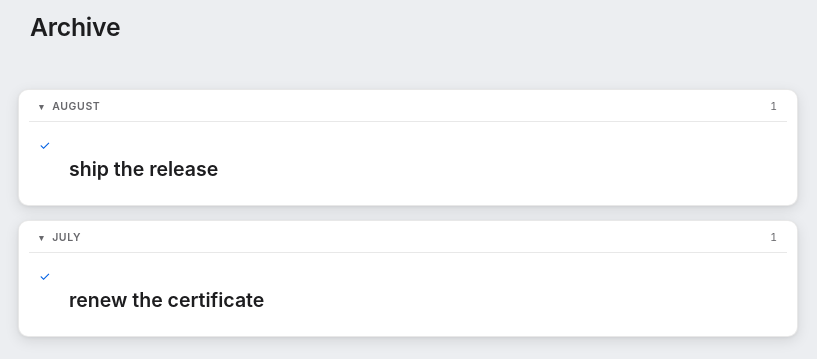
the bands of the archive fold › puts away a whole band and says how much it holds
The width and height of the screenshot is (817, 359).
Click the button "▾ August 1". click: (76, 106)
box: [29, 98, 787, 122]
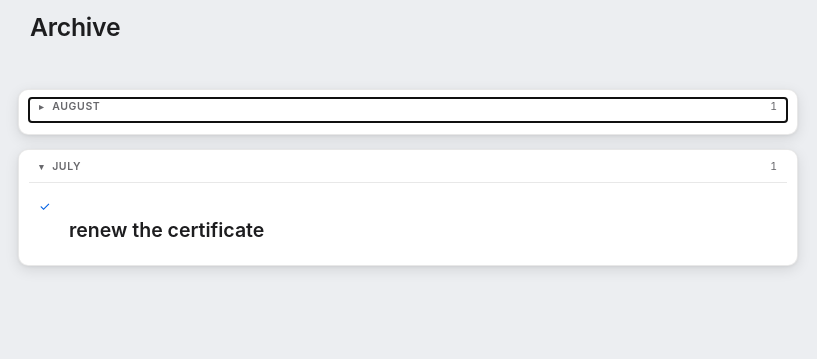
Expected: the heading "renew the certificate" is shown, [69, 218, 264, 242]
Expected: the heading "ship the release" is gone
